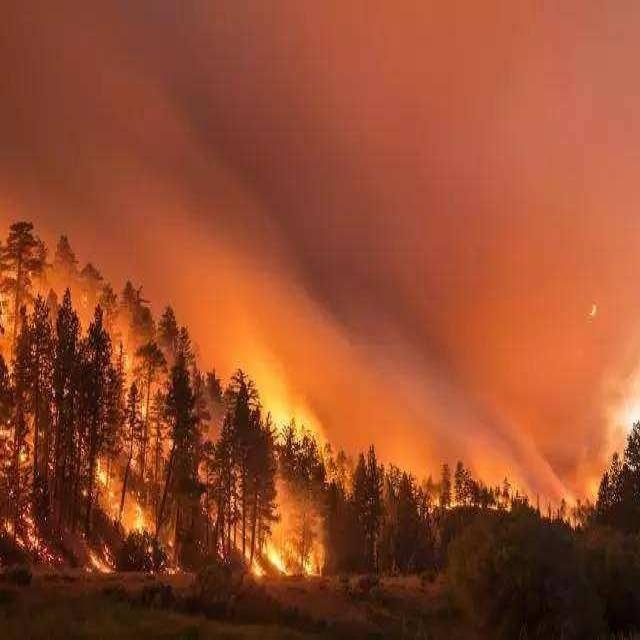fire: (207, 471, 331, 580), (79, 443, 179, 577), (2, 425, 63, 570), (250, 359, 325, 463), (552, 461, 622, 530)
